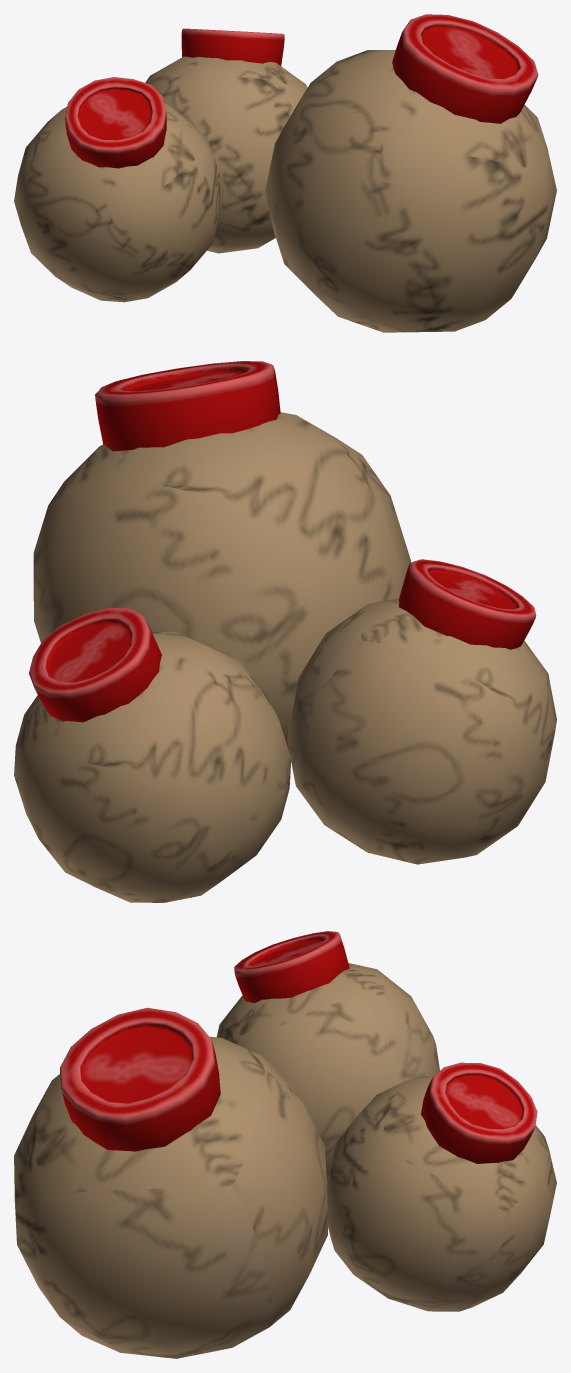
File: GamiFlowerSeed.fbx
3 renders of one model, top to bottom at view 1: azimuth 30°, elevation 25°; view 2: azimuth 150°, elevation 25°; view 3: azimuth 270°, elevation 25°, orthographic. The views are drawn at different scales.
Parts seen in each view (by area): view 1: Cube; view 2: Cube; view 3: Cube.
Part boxes in pixels (x1,y1,x2,y2): Cube: [14, 14, 556, 332]; Cube: [14, 361, 556, 902]; Cube: [14, 931, 556, 1358].
Size of the model in its own units: 30.62 by 29.51 by 19.57.
